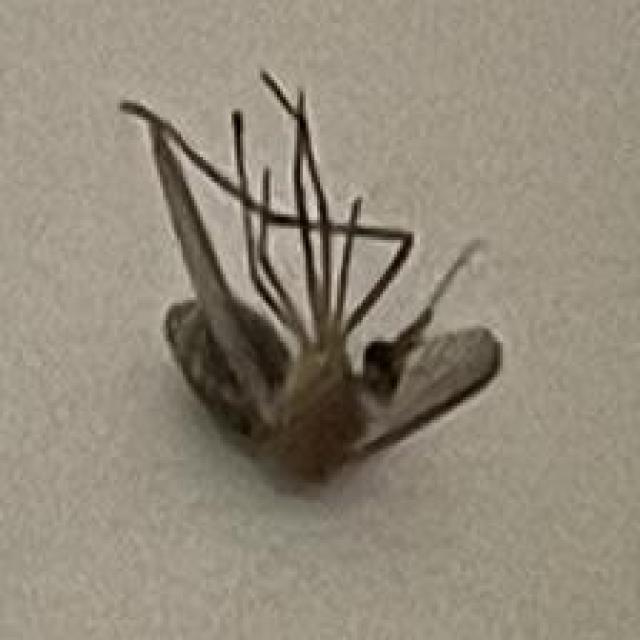Culex: (117, 66, 503, 488)
